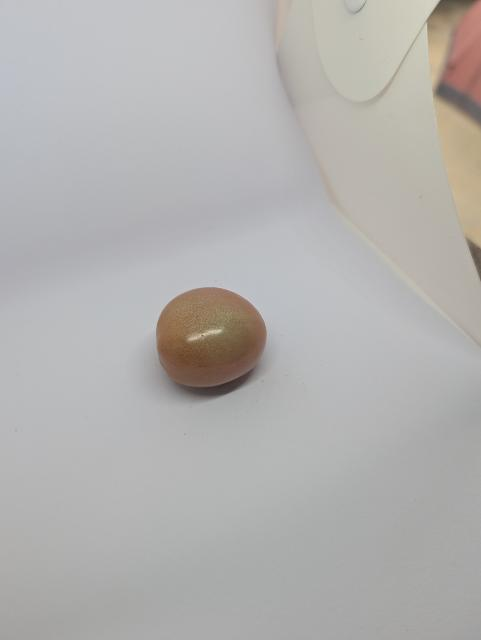turning: (150, 281, 279, 408)
